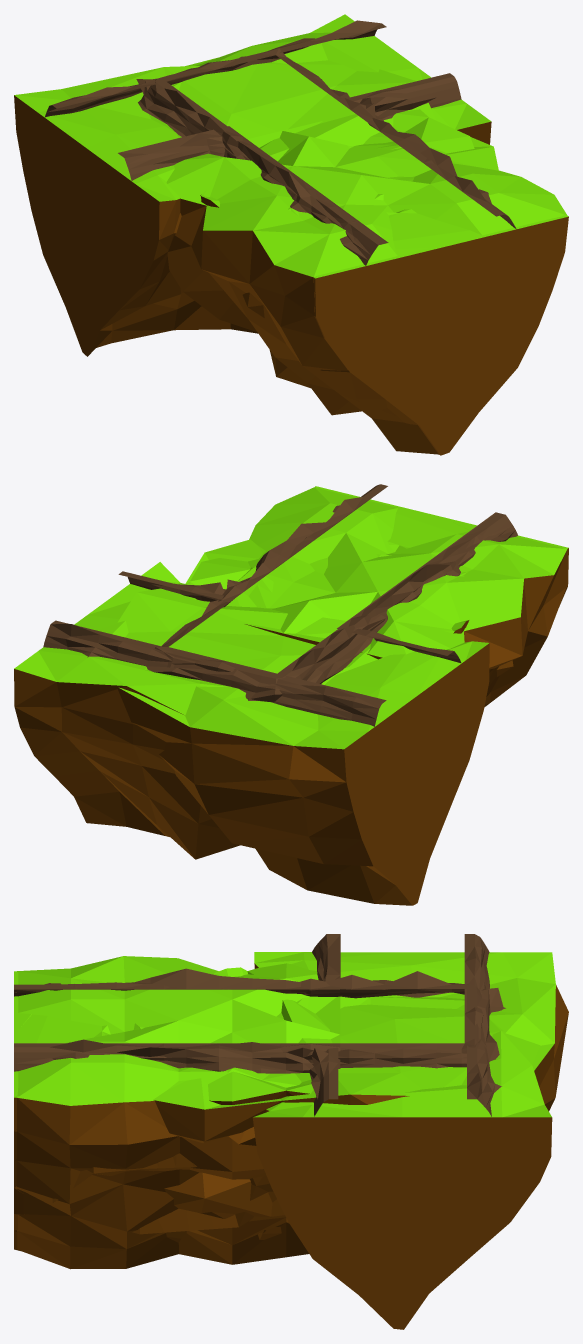
The model's file is float3.fbx.
3 renders of one model, top to bottom at view 1: azimuth 30°, elevation 25°; view 2: azimuth 150°, elevation 25°; view 3: azimuth 270°, elevation 25°, orthographic. The views are drawn at different scales.
Visible parts, largest first — view 1: floatl, floats, sideup.r, floatr, sideupl, sideups; view 2: floatl, floats, floatr, sideup.r, sideupl, sideups; view 3: floats, floatr, floatl, sideup.r, sideupl, sideups.
Part boxes in pixels (bbox=[...]): floatl: bbox=[14, 57, 568, 455]; floats: bbox=[166, 109, 567, 454]; sideup.r: bbox=[136, 20, 507, 259]; floatr: bbox=[149, 14, 491, 424]; sideupl: bbox=[45, 48, 516, 265]; sideups: bbox=[222, 98, 510, 250]; floatl: bbox=[117, 486, 568, 905]; floats: bbox=[185, 487, 567, 707]; floatr: bbox=[14, 520, 568, 859]; sideup.r: bbox=[43, 484, 514, 702]; sideupl: bbox=[154, 484, 517, 726]; sideups: bbox=[218, 487, 506, 634]; floats: bbox=[17, 956, 340, 1269]; floatr: bbox=[14, 996, 552, 1329]; floatl: bbox=[14, 952, 568, 1249]; sideup.r: bbox=[14, 968, 505, 1116]; sideupl: bbox=[14, 934, 489, 1073]; sideups: bbox=[17, 978, 340, 1068].
Size of the model in its own units: 1214 by 879 by 1722.
